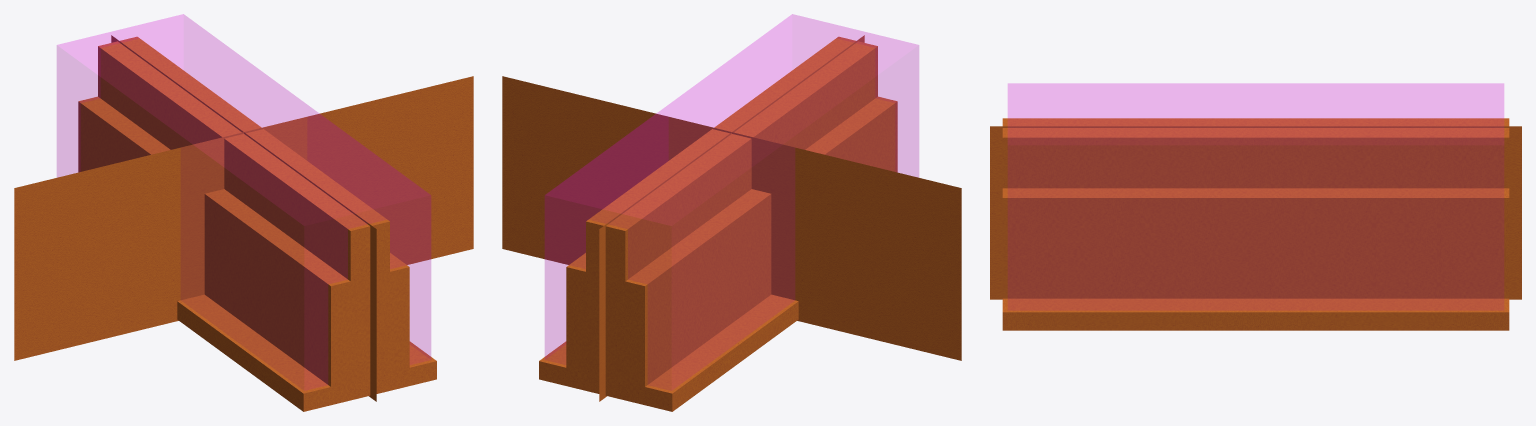
File: krail_orange_2m.dae
The picture shows the model from 3 angles, left to right: view 1: azimuth 30°, elevation 25°; view 2: azimuth 150°, elevation 25°; view 3: azimuth 270°, elevation 25°; orthographic projection.
Parts seen in each view (by area): view 1: Colmesh_krail-1, krail_orange_2m_a50, krail_orange_2m_a800, krail_orange_2m_a200; view 2: Colmesh_krail-1, krail_orange_2m_a50, krail_orange_2m_a800, krail_orange_2m_a200; view 3: krail_orange_2m_a800, Colmesh_krail-1, krail_orange_2m_a200, krail_orange_2m_a50.
Part boxes in pixels (x1,y1,x2,y2): Colmesh_krail-1: [57, 14, 430, 390]; krail_orange_2m_a50: [14, 35, 473, 401]; krail_orange_2m_a800: [78, 36, 436, 411]; krail_orange_2m_a200: [204, 214, 409, 386]; Colmesh_krail-1: [545, 14, 918, 390]; krail_orange_2m_a50: [502, 35, 961, 401]; krail_orange_2m_a800: [539, 36, 897, 411]; krail_orange_2m_a200: [568, 97, 897, 386]; krail_orange_2m_a800: [1002, 118, 1509, 330]; Colmesh_krail-1: [1008, 83, 1503, 309]; krail_orange_2m_a200: [1002, 188, 1503, 298]; krail_orange_2m_a50: [990, 126, 1521, 299].
Size of the model in its own units: 2.1 by 2.1 by 0.8074.
Materials: 2 (1 with a texture image).
